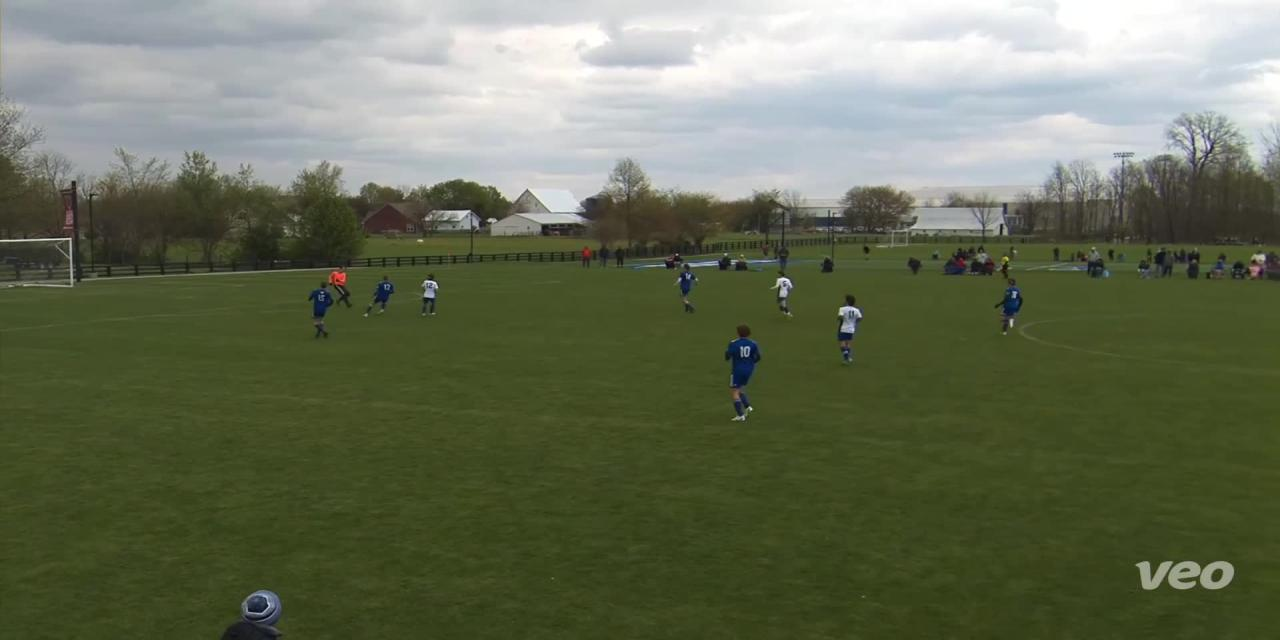goal: (0, 234, 88, 294)
sports ball: (414, 236, 431, 248)
